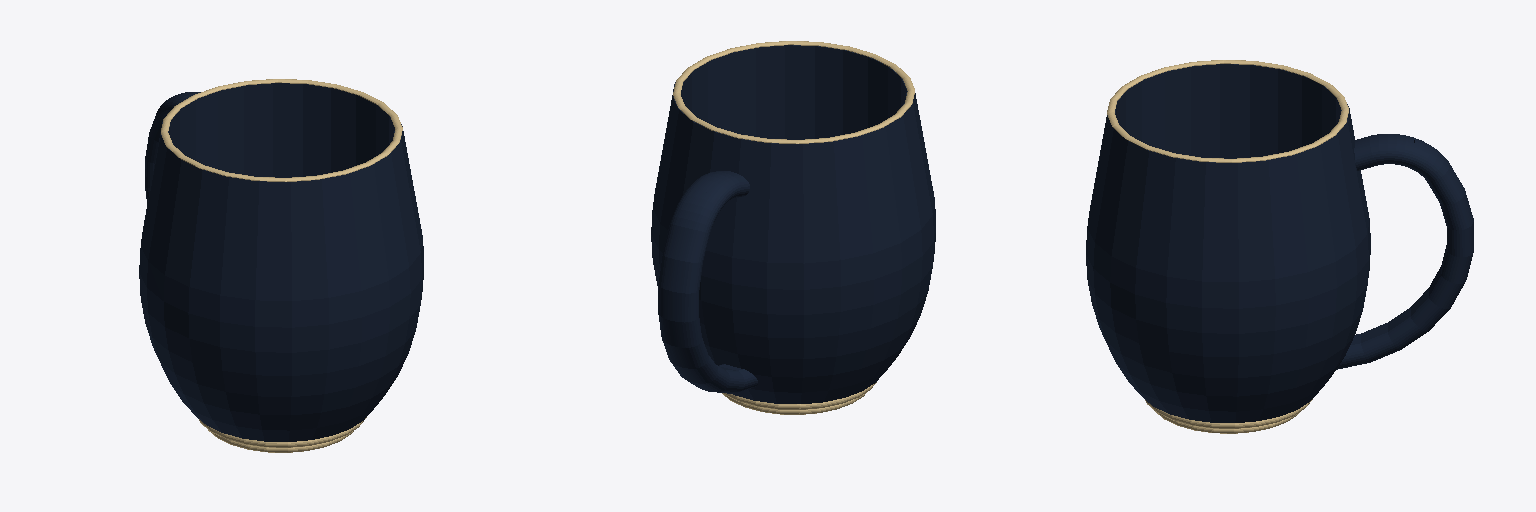
3 views of the same model, side by side, from view 1: azimuth 30°, elevation 25°; view 2: azimuth 150°, elevation 25°; view 3: azimuth 270°, elevation 25° (orthographic).
Parts seen in each view (by area): view 1: model_normalized.001; view 2: model_normalized.001; view 3: model_normalized.001.
Part boxes in pixels (x1,y1,x2,y2): model_normalized.001: (139, 79, 423, 452); model_normalized.001: (651, 41, 935, 414); model_normalized.001: (1086, 60, 1473, 433).
Bounding box in the file's own units: 0.492 × 0.5562 × 0.6697.